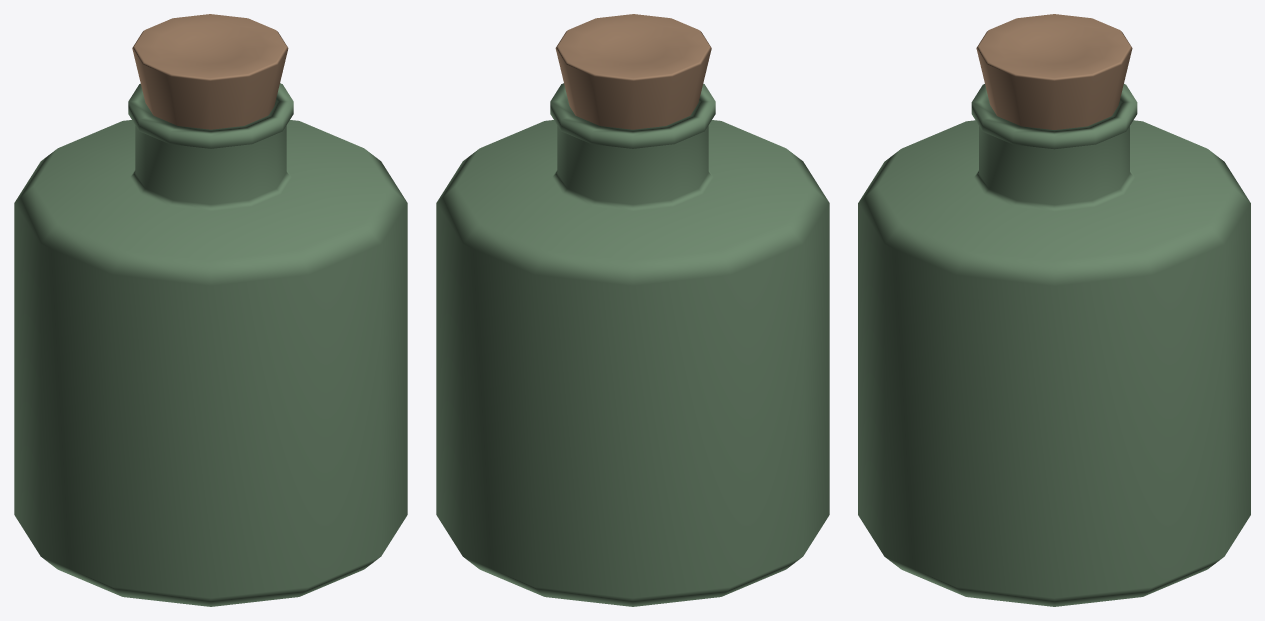
File: black_pot.fbx
The picture shows the model from 3 angles, left to right: view 1: azimuth 30°, elevation 25°; view 2: azimuth 150°, elevation 25°; view 3: azimuth 270°, elevation 25°; orthographic projection.
Visible parts, largest first — view 1: pCylinder36, pCylinder39; view 2: pCylinder36, pCylinder39; view 3: pCylinder36, pCylinder39.
Part boxes in pixels (x1,y1,x2,y2): pCylinder36: (14,83,407,606); pCylinder39: (132,14,288,129); pCylinder36: (436,83,829,606); pCylinder39: (555,14,711,129); pCylinder36: (858,84,1250,606); pCylinder39: (976,14,1132,129).
Bounding box in the file's own units: 8.57 × 11.7 × 8.57.
